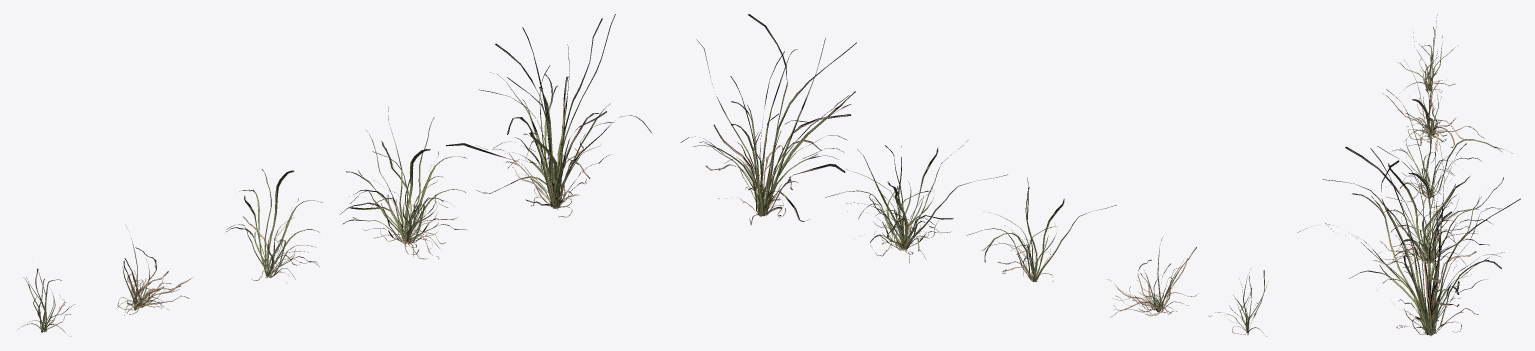
File: grass_medium_02.glb
3 views of the same model, side by side, from view 1: azimuth 30°, elevation 25°; view 2: azimuth 150°, elevation 25°; view 3: azimuth 270°, elevation 25° (orthographic). The views are drawn at different scales.
Parts seen in each view (by area): view 1: grass_medium_02_e, grass_medium_02_d, grass_medium_02_c, grass_medium_02_b, grass_medium_02_a; view 2: grass_medium_02_e, grass_medium_02_d, grass_medium_02_c, grass_medium_02_b, grass_medium_02_a; view 3: grass_medium_02_e, grass_medium_02_d, grass_medium_02_c, grass_medium_02_b, grass_medium_02_a.
Part boxes in pixels (<box>): grass_medium_02_e: <box>446,14,651,217</box>; grass_medium_02_d: <box>340,107,466,259</box>; grass_medium_02_c: <box>226,169,322,280</box>; grass_medium_02_b: <box>116,226,192,315</box>; grass_medium_02_a: <box>19,268,74,336</box>; grass_medium_02_e: <box>680,14,856,224</box>; grass_medium_02_d: <box>825,140,1007,262</box>; grass_medium_02_c: <box>966,177,1116,281</box>; grass_medium_02_b: <box>1107,237,1197,317</box>; grass_medium_02_a: <box>1209,269,1268,336</box>; grass_medium_02_e: <box>1297,142,1520,335</box>; grass_medium_02_d: <box>1323,143,1503,274</box>; grass_medium_02_c: <box>1386,89,1512,215</box>; grass_medium_02_b: <box>1382,49,1484,151</box>; grass_medium_02_a: <box>1398,14,1458,92</box>.
Bounding box in the file's own units: 1.31 × 0.4053 × 0.4332.
1 material, 1 textured.
